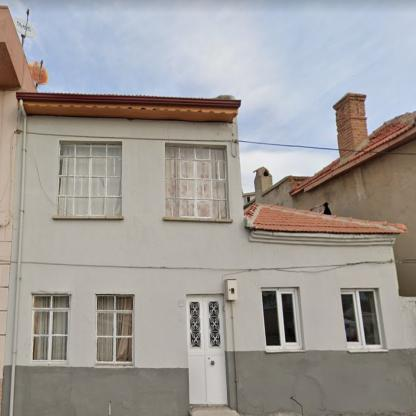door: (187, 293, 229, 407)
window: (164, 145, 228, 220), (57, 145, 122, 216), (262, 287, 304, 352), (341, 289, 385, 350), (94, 296, 134, 363), (32, 294, 68, 363)
